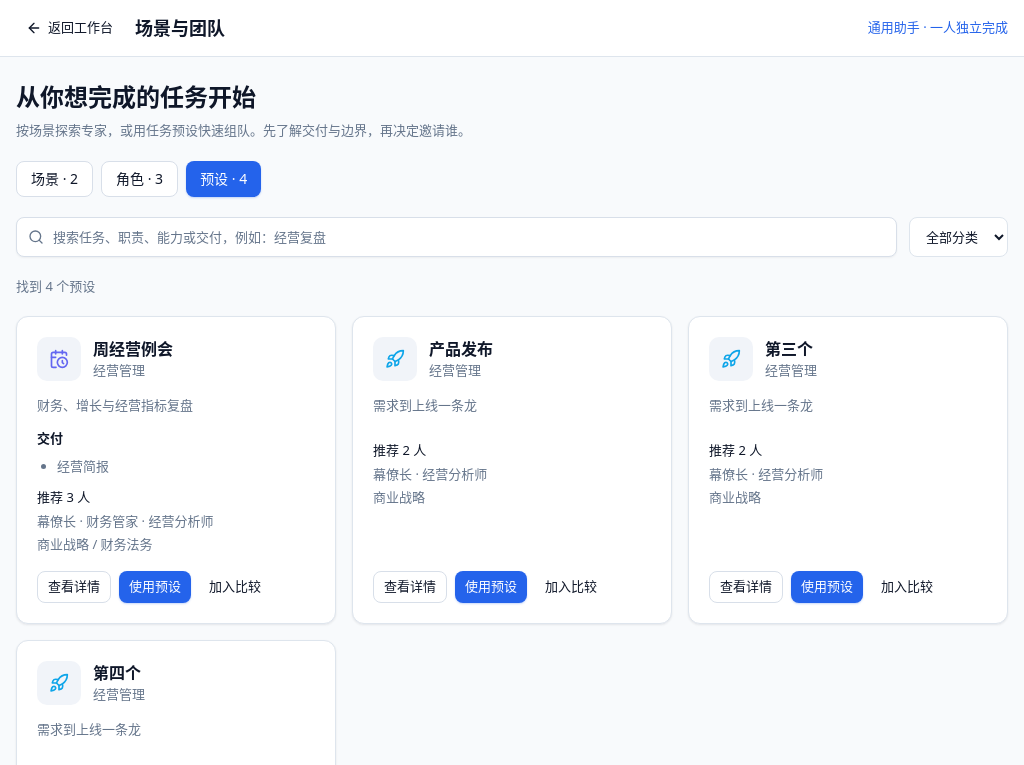
Test case: 目录页：预设比较与使用 › 最多比较三个预设，第四个只给提示不加入
The width and height of the screenshot is (1024, 765).
Click the button "加入比较" below "商业战略 / 财务法务": (235, 586) [199,570,271,602]
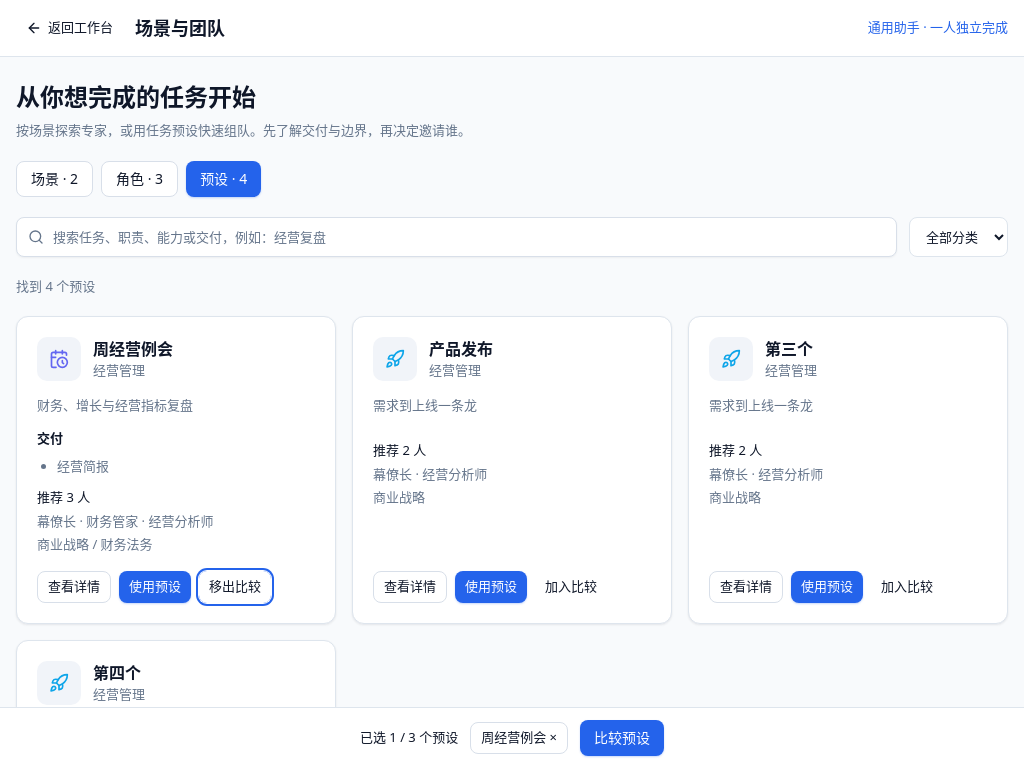
Click the button "加入比较" below "产品发布": (571, 586) [535,570,607,602]
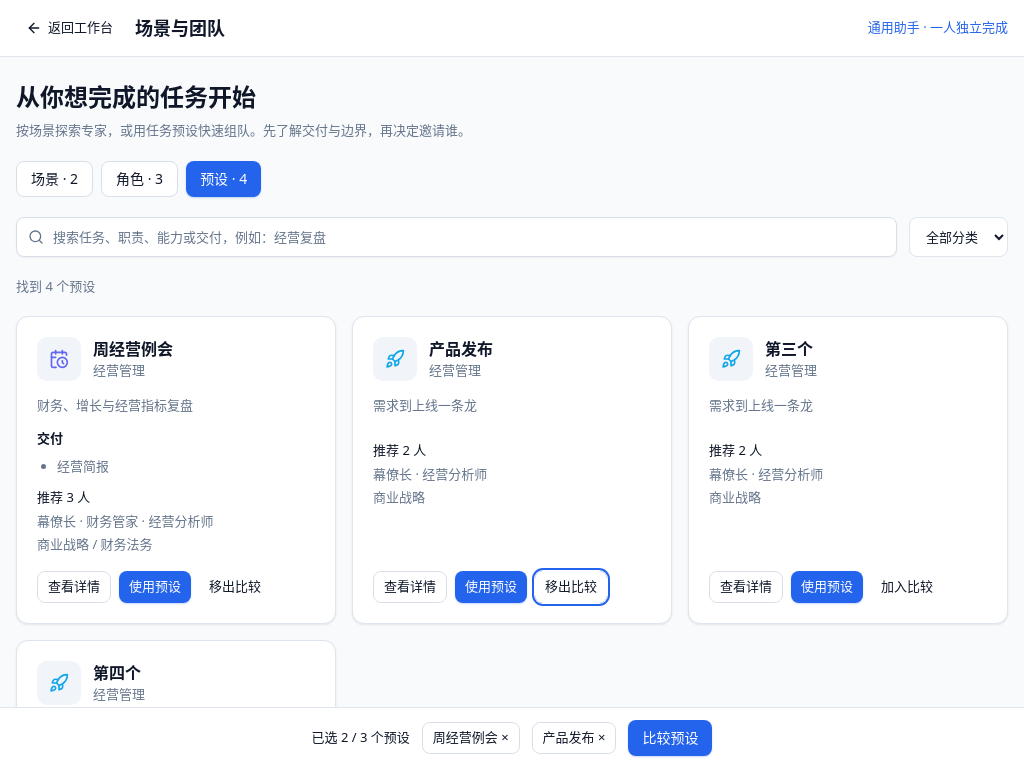
Click the button "加入比较": (907, 586) [871,570,943,602]
(page scrolled)
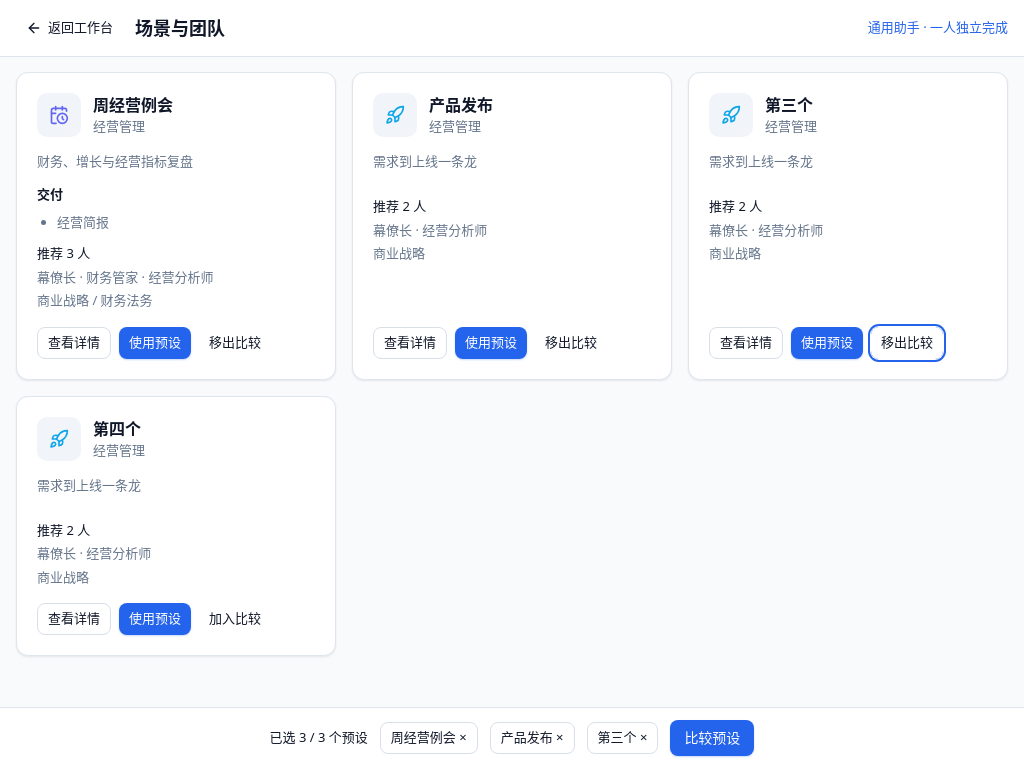
Result: the text "已选 3 / 3 个预设" is shown at [270,728,368,748]
Click the button "加入比较": (235, 619) [199,603,271,635]
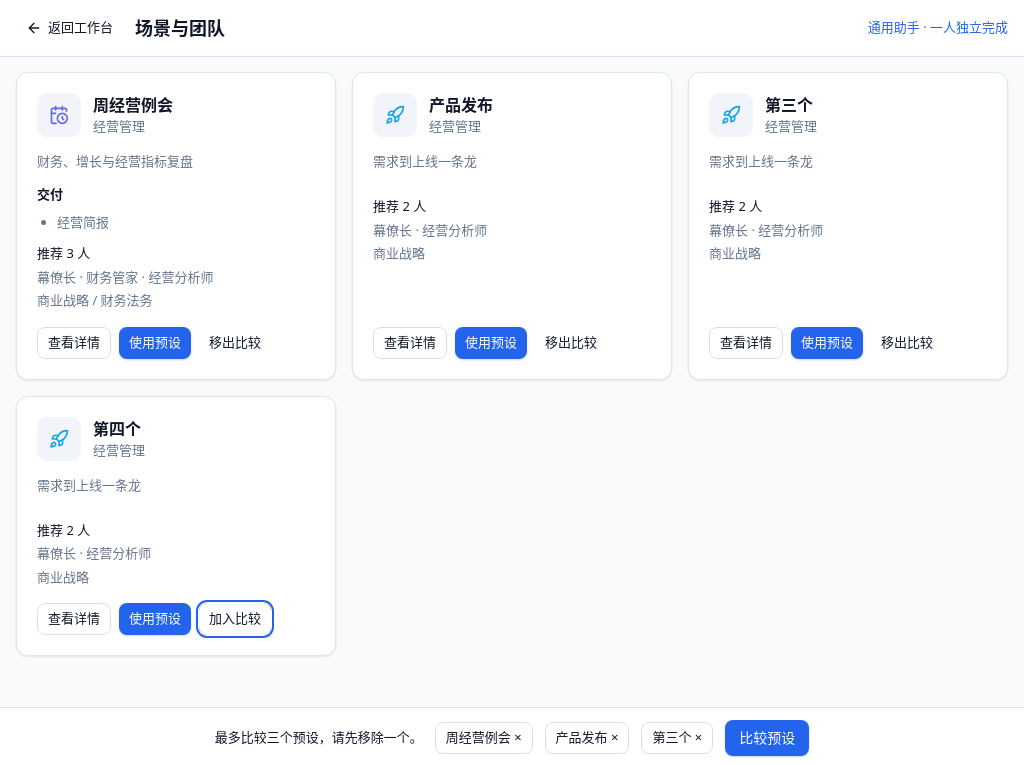
Result: the text "最多比较三个预设，请先移除一个。" is shown at [215,728,423,748]
